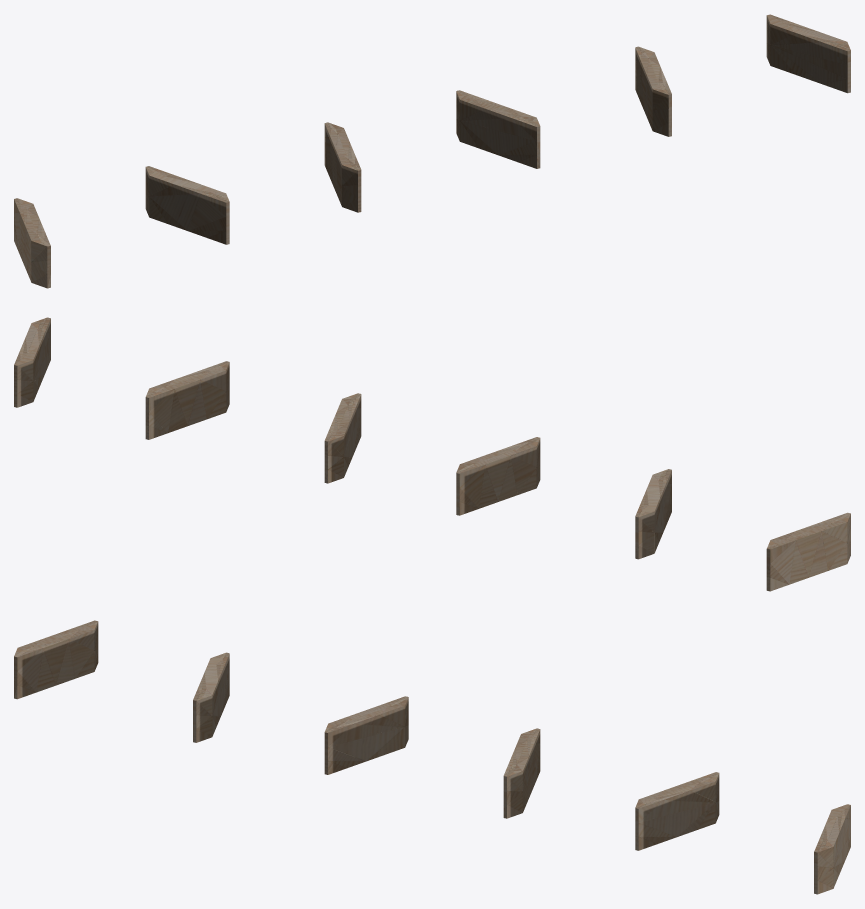
3 views of the same model, one above another, from view 1: azimuth 30°, elevation 25°; view 2: azimuth 150°, elevation 25°; view 3: azimuth 330°, elevation 25° (orthographic).
Visible parts, largest first — view 1: p5; view 2: p5; view 3: p5.
Part boxes in pixels (<box>): p5: <box>14,14,850,288</box>; p5: <box>14,317,850,591</box>; p5: <box>14,620,850,894</box>.
Size of the model in its own units: 1932 by 95 by 234.
Materials: 1 (1 with a texture image).
